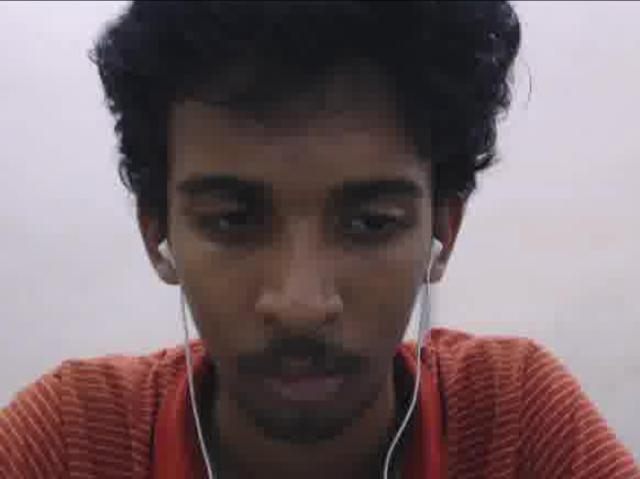bosan: (150, 71, 448, 456)
